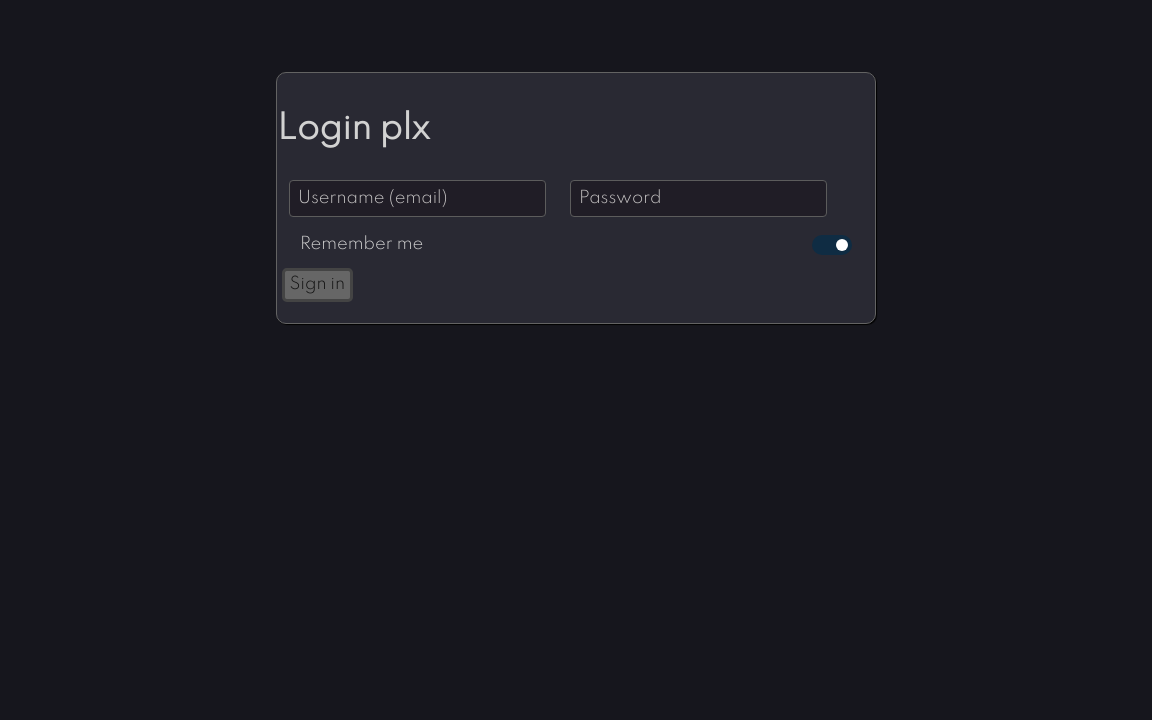
Test: Login › disables Sign in button if email or password is empty
This screenshot has width=1152, height=720.
Expected: the button "Sign in" is disabled, 282,268 -> 353,302
In the field labelled "Username": (418, 198) 289,180 -> 546,217, type "test@test.com"
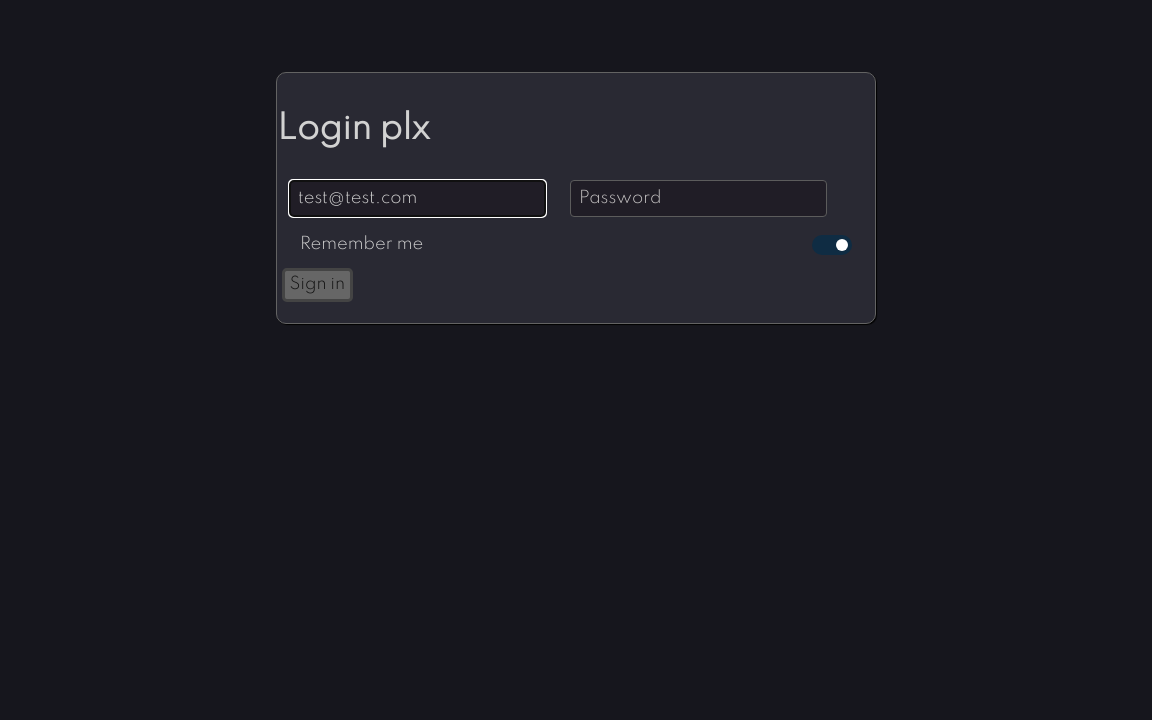
Expected: the button is disabled, 282,268 -> 353,302
In the password field labelled "Password": (699, 198) 570,180 -> 827,217, type "pass123"
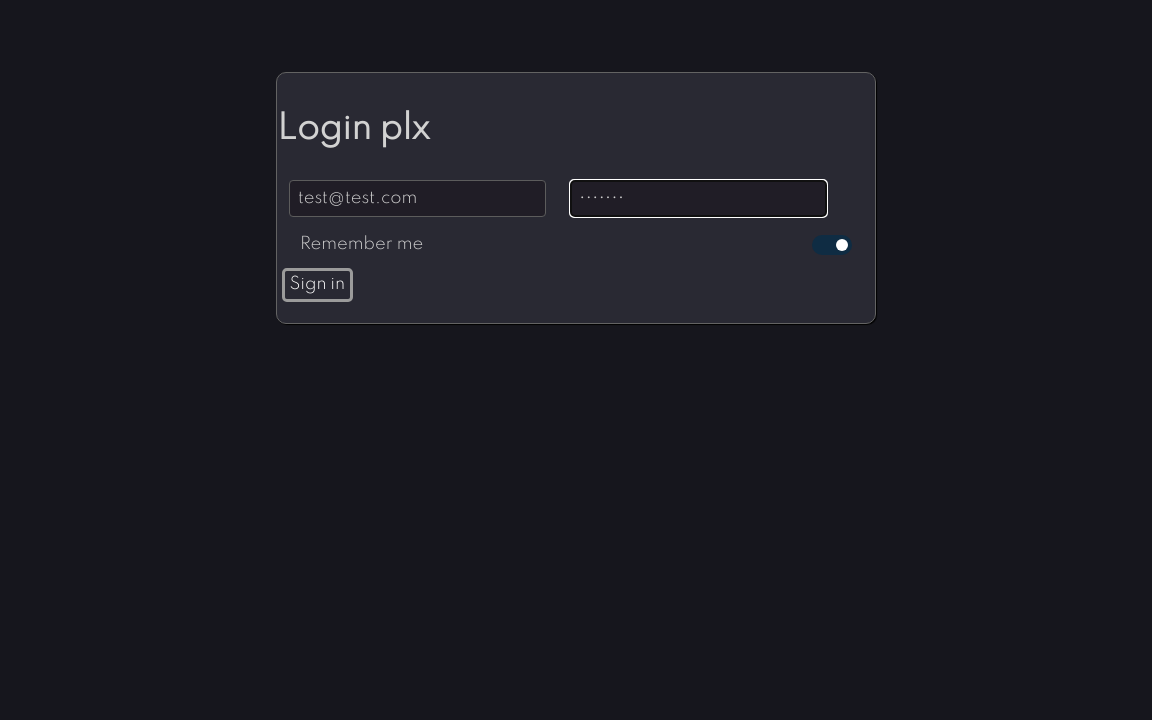
Expected: the button is enabled, 282,268 -> 353,302
